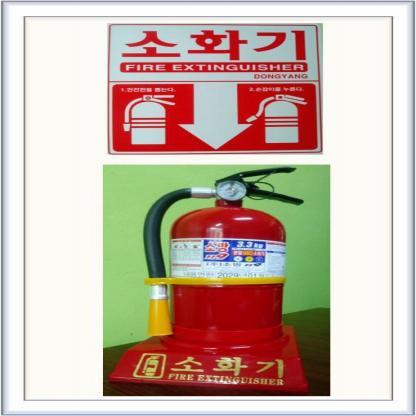Fire Extinguisher: (139, 163, 328, 350)
